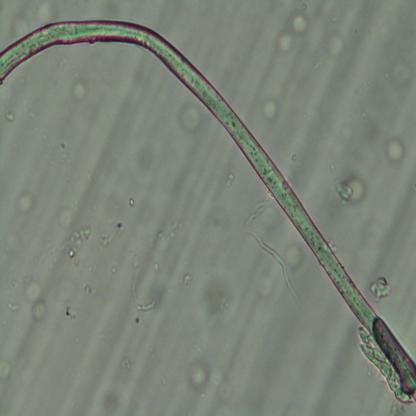Background material: (246, 205, 305, 311), (198, 272, 235, 328), (127, 252, 156, 316), (182, 352, 218, 402), (21, 276, 48, 324), (62, 226, 92, 266), (385, 55, 414, 90), (367, 270, 391, 305), (334, 176, 364, 204), (178, 102, 202, 136), (386, 131, 408, 165), (358, 224, 383, 251), (99, 391, 124, 416), (157, 222, 182, 247), (8, 14, 30, 40), (34, 0, 56, 26), (320, 35, 346, 57), (70, 76, 89, 106), (13, 191, 36, 215), (258, 96, 279, 122), (275, 28, 294, 53), (60, 208, 78, 230), (338, 121, 354, 142), (292, 19, 314, 33), (119, 354, 136, 371), (0, 358, 11, 382), (64, 299, 76, 321), (98, 232, 112, 250), (223, 169, 235, 189), (5, 300, 21, 313), (5, 106, 15, 124), (116, 218, 126, 236), (128, 196, 140, 208), (152, 262, 162, 274), (314, 58, 324, 69), (184, 276, 193, 286), (329, 160, 336, 172), (288, 154, 298, 162), (108, 268, 117, 276), (82, 285, 91, 293), (361, 111, 367, 120)
Microfibre: (0, 14, 416, 401)
